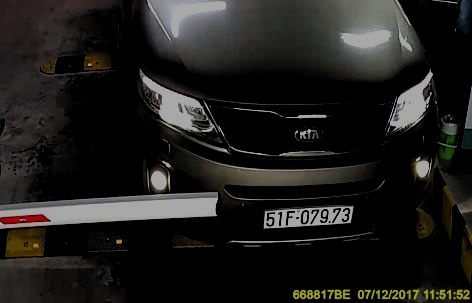plate: (262, 201, 358, 228)
